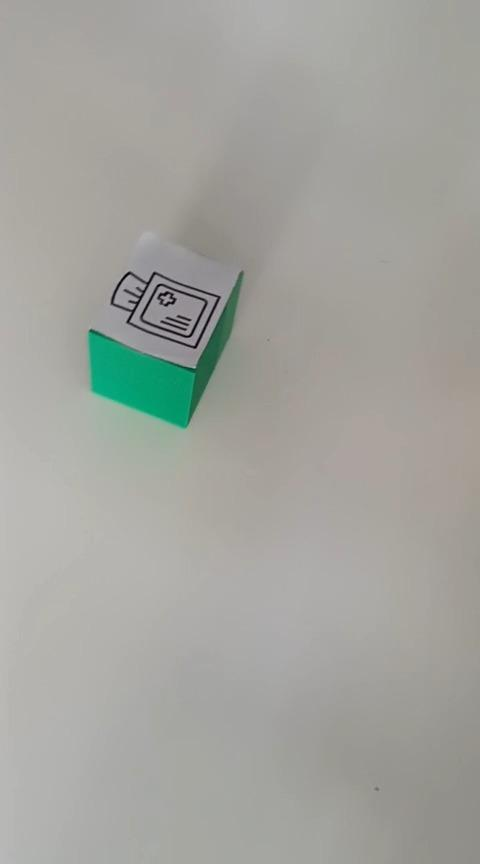Gauze: (86, 229, 244, 429)
